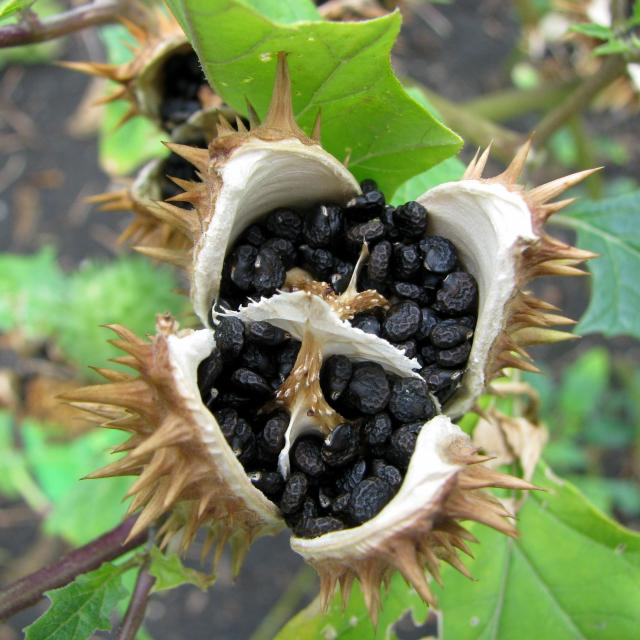Poisonous-Datura_Stramonium: (63, 108, 573, 582)
